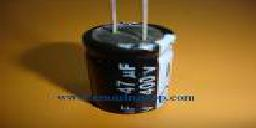Electrolytic-capacitor: (79, 3, 176, 115)
